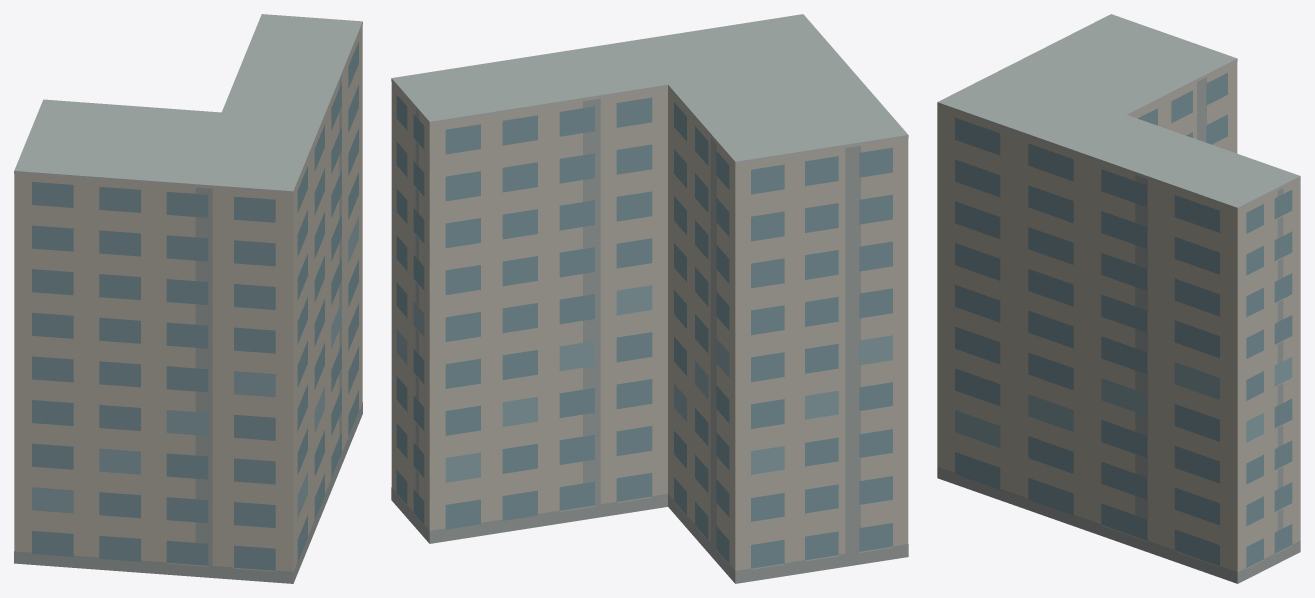
File: residential-b79d9093-f49d-418d-a35b-6c05a344d8f5.glb
3 renders of one model, left to right at view 1: azimuth 30°, elevation 25°; view 2: azimuth 150°, elevation 25°; view 3: azimuth 270°, elevation 25°, orthographic. The views are drawn at different scales.
Visible parts, largest first — view 1: residential-b79d9093-f49d-418d-a35b-6c05a344d8f5.tmp; view 2: residential-b79d9093-f49d-418d-a35b-6c05a344d8f5.tmp; view 3: residential-b79d9093-f49d-418d-a35b-6c05a344d8f5.tmp.
Boxes of the visible parts, <box> form: residential-b79d9093-f49d-418d-a35b-6c05a344d8f5.tmp: <box>14,14,362,583</box>; residential-b79d9093-f49d-418d-a35b-6c05a344d8f5.tmp: <box>391,14,908,583</box>; residential-b79d9093-f49d-418d-a35b-6c05a344d8f5.tmp: <box>937,14,1300,583</box>.
Bounding box in the file's own units: 33.17 × 30 × 26.27.
